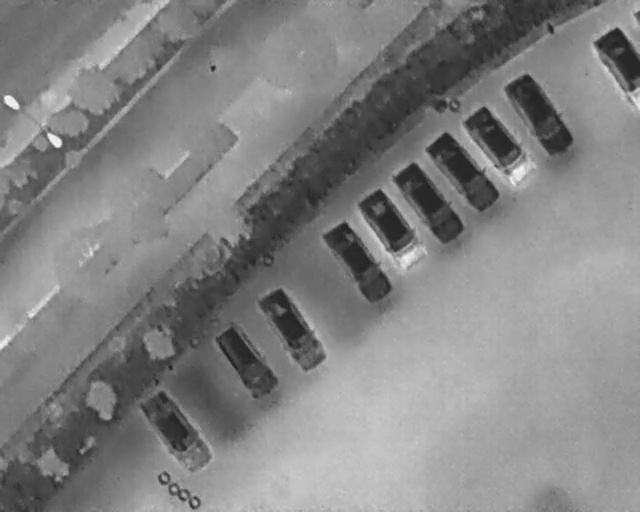Car: (134, 382, 223, 482), (418, 128, 508, 221), (384, 154, 471, 250), (350, 182, 436, 279), (317, 215, 401, 311), (250, 280, 332, 378), (456, 99, 542, 191), (498, 68, 578, 160), (206, 316, 285, 406), (591, 24, 639, 110)
